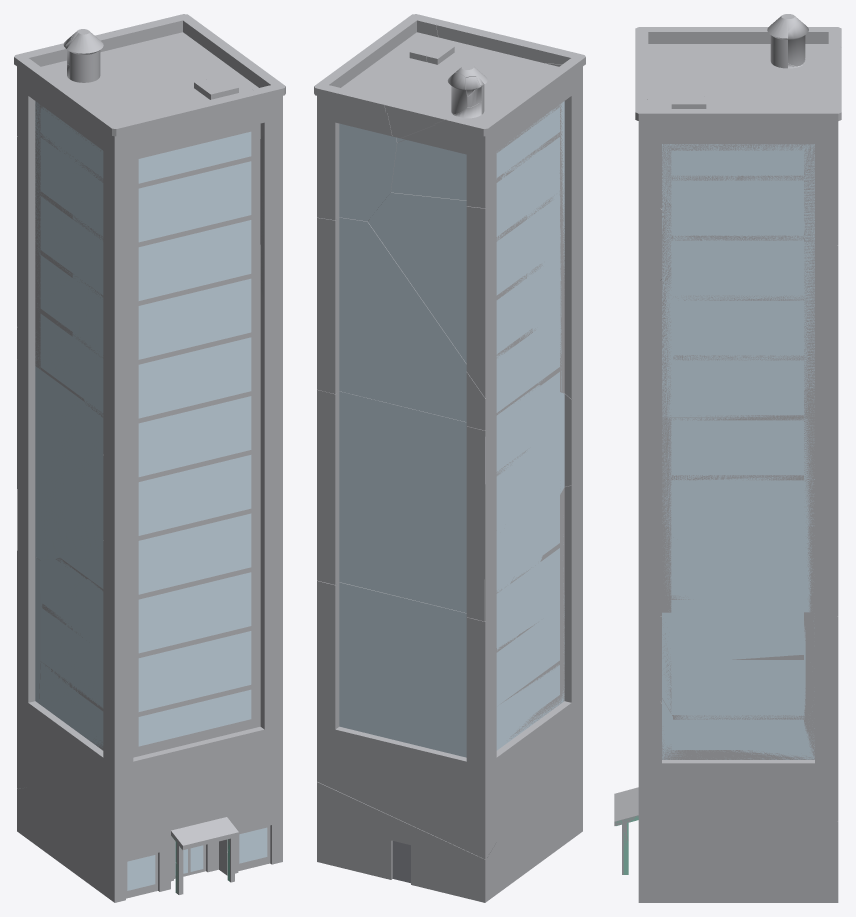
File: fracturedSkyscraper.fbx
The picture shows the model from 3 angles, left to right: view 1: azimuth 30°, elevation 25°; view 2: azimuth 150°, elevation 25°; view 3: azimuth 270°, elevation 25°; orthographic projection. The views are drawn at different scales.
Visible parts, largest first — view 1: skyscraperD, skyscraperD_cell.008, skyscraperD_cell.006, skyscraperD_cell.017, skyscraperD_cell.003, skyscraperD_cell.012, skyscraperD_cell.019, skyscraperD_cell.002, skyscraperD_cell.015, skyscraperD_cell.004, skyscraperD_cell.009, skyscraperD_cell.007 (+1 smaller); view 2: skyscraperD, skyscraperD_cell.006, skyscraperD_cell.002, skyscraperD_cell.007, skyscraperD_cell.019, skyscraperD_cell.008, skyscraperD_cell.017, skyscraperD_cell.013, skyscraperD_cell.009, skyscraperD_cell.004, skyscraperD_cell.003, skyscraperD_cell.012 (+4 smaller); view 3: skyscraperD, skyscraperD_cell.006, skyscraperD_cell.007, skyscraperD_cell.002, skyscraperD_cell.009, skyscraperD_cell.014, skyscraperD_cell.013, skyscraperD_cell.017, skyscraperD_cell.018, skyscraperD_cell.005, skyscraperD_cell.011, skyscraperD_cell (+2 smaller).
Part boxes in pixels (bbox=[...]): skyscraperD: bbox=[15, 14, 285, 902]; skyscraperD_cell.008: bbox=[26, 537, 263, 823]; skyscraperD_cell.006: bbox=[17, 359, 263, 572]; skyscraperD_cell.017: bbox=[72, 132, 263, 472]; skyscraperD_cell.003: bbox=[18, 786, 158, 901]; skyscraperD_cell.012: bbox=[27, 64, 99, 163]; skyscraperD_cell.019: bbox=[17, 137, 72, 345]; skyscraperD_cell.002: bbox=[17, 550, 43, 788]; skyscraperD_cell.015: bbox=[27, 775, 181, 862]; skyscraperD_cell.004: bbox=[14, 46, 52, 139]; skyscraperD_cell.009: bbox=[115, 14, 271, 138]; skyscraperD_cell.007: bbox=[17, 290, 263, 398]; skyscraperD: bbox=[315, 14, 585, 901]; skyscraperD_cell.006: bbox=[317, 385, 582, 621]; skyscraperD_cell.002: bbox=[317, 580, 497, 859]; skyscraperD_cell.007: bbox=[317, 217, 535, 430]; skyscraperD_cell.019: bbox=[368, 166, 526, 397]; skyscraperD_cell.008: bbox=[495, 476, 582, 825]; skyscraperD_cell.017: bbox=[526, 63, 581, 400]; skyscraperD_cell.013: bbox=[317, 782, 486, 902]; skyscraperD_cell.009: bbox=[314, 20, 438, 221]; skyscraperD_cell.004: bbox=[391, 119, 502, 208]; skyscraperD_cell.003: bbox=[486, 784, 582, 901]; skyscraperD_cell.012: bbox=[451, 84, 567, 173]; skyscraperD: bbox=[614, 14, 840, 902]; skyscraperD_cell.006: bbox=[640, 418, 838, 615]; skyscraperD_cell.007: bbox=[640, 241, 838, 421]; skyscraperD_cell.002: bbox=[647, 612, 838, 825]; skyscraperD_cell.009: bbox=[640, 78, 841, 245]; skyscraperD_cell.014: bbox=[623, 685, 733, 902]; skyscraperD_cell.013: bbox=[718, 821, 838, 902]; skyscraperD_cell.017: bbox=[640, 39, 702, 300]; skyscraperD_cell.018: bbox=[690, 828, 732, 902]; skyscraperD_cell.005: bbox=[647, 32, 753, 106]; skyscraperD_cell.011: bbox=[640, 829, 664, 902]; skyscraperD_cell: bbox=[788, 20, 808, 66].
Bounding box in the file's own units: 124 × 550 × 138.
